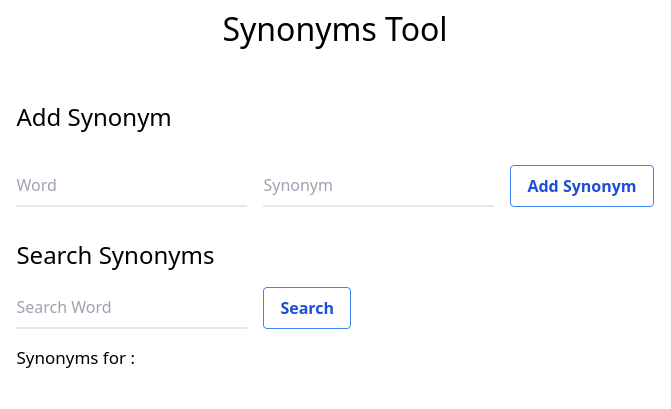
Test case: Home Component › handles search error gracefully if search fails
Enter a search word
Type "car" into the field with placeholder "Search Word" at (132, 308), box [16,287,247,329]
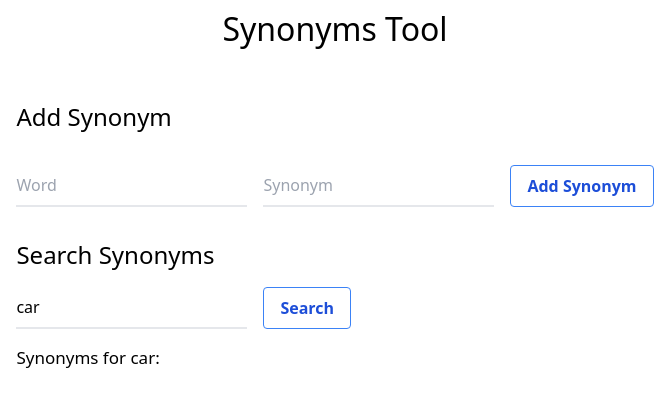
Submit the search
Click the button "Search" at (307, 308), box [263,287,351,329]
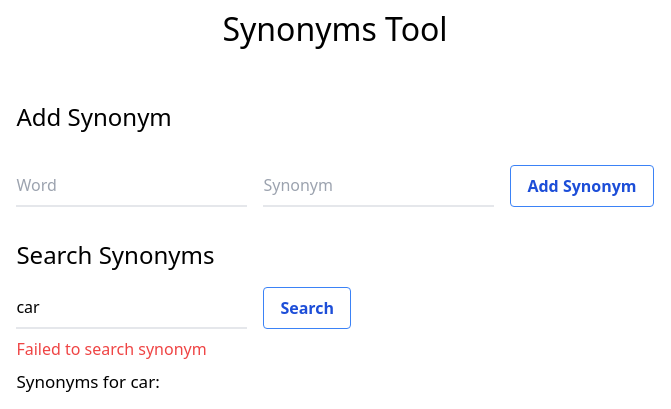
Check: the text "Failed to search synonym" is shown, box [16,338,207,360]
